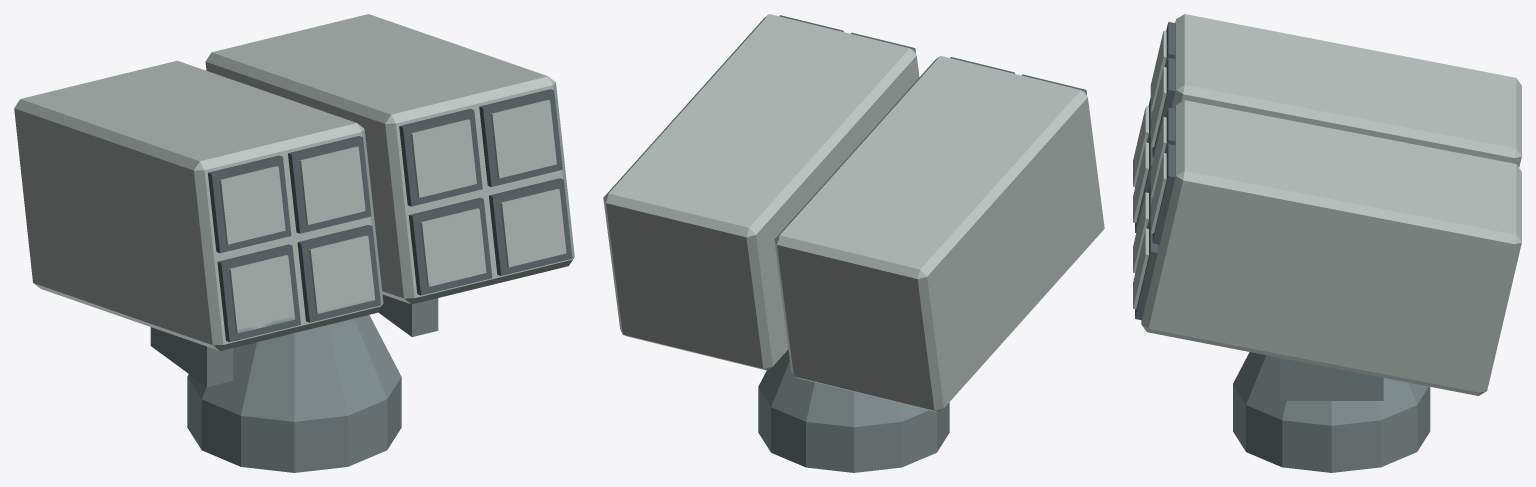
Rendered from mount_spruance_seasparrow.glb.
3 renders of one model, left to right at view 1: azimuth 30°, elevation 25°; view 2: azimuth 150°, elevation 25°; view 3: azimuth 270°, elevation 25°, orthographic. The views are drawn at different scales.
Visible parts, largest first — view 1: MESH_SPRUANCE_TEMPLATE_seasparrow; view 2: MESH_SPRUANCE_TEMPLATE_seasparrow; view 3: MESH_SPRUANCE_TEMPLATE_seasparrow.
Part boxes in pixels (x1,y1,x2,y2): MESH_SPRUANCE_TEMPLATE_seasparrow: [14, 14, 574, 472]; MESH_SPRUANCE_TEMPLATE_seasparrow: [603, 14, 1104, 472]; MESH_SPRUANCE_TEMPLATE_seasparrow: [1133, 14, 1521, 472].
Size of the model in its own units: 2.59 by 2.51 by 2.61.
Materials: 1 (1 with a texture image).
